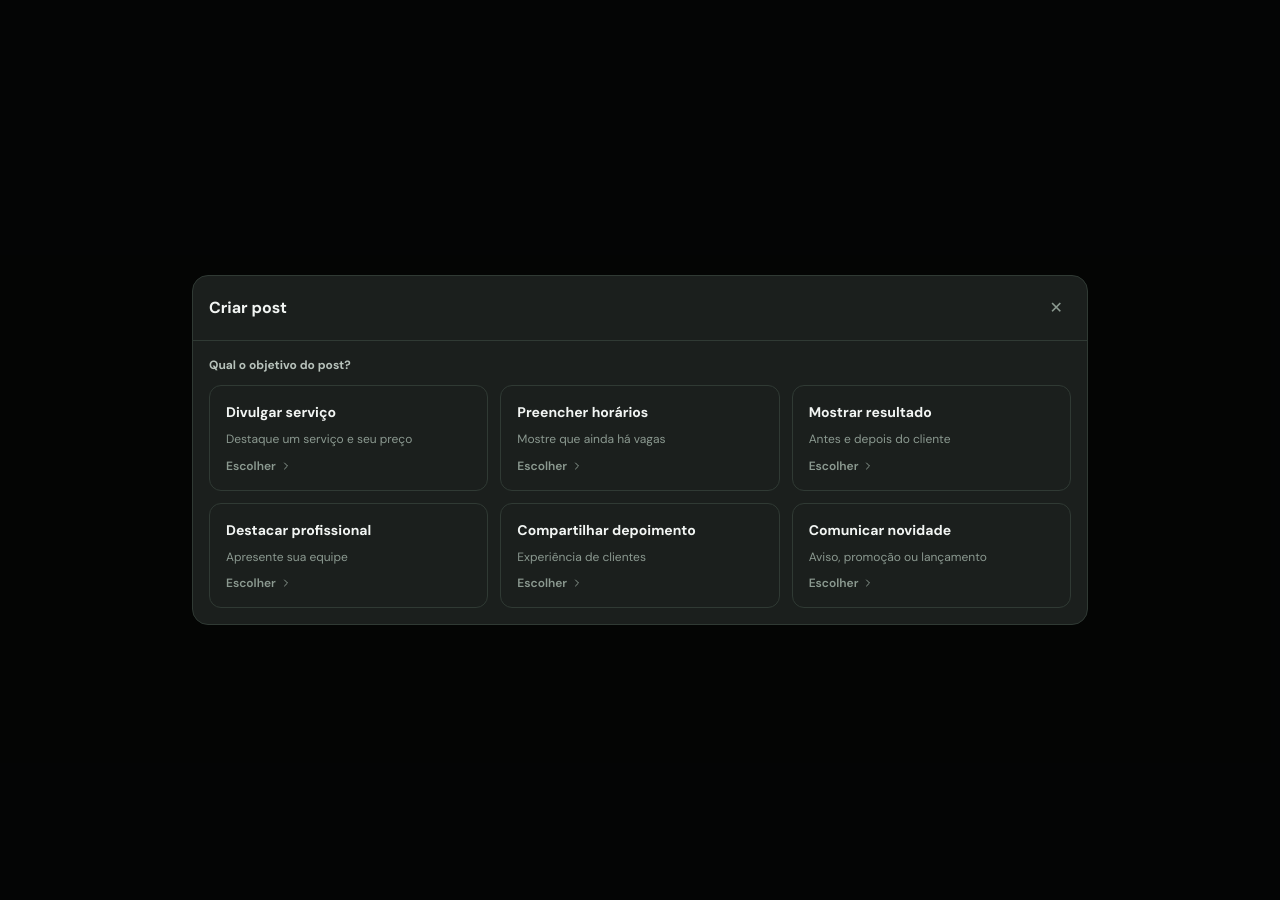
Test case: PostEditor — photoMode › optional com stockImageKey avisa que imagem ilustrativa não representa o salão
Click the text "Divulgar serviço".
click(281, 412)  # box [226,402,336,422]
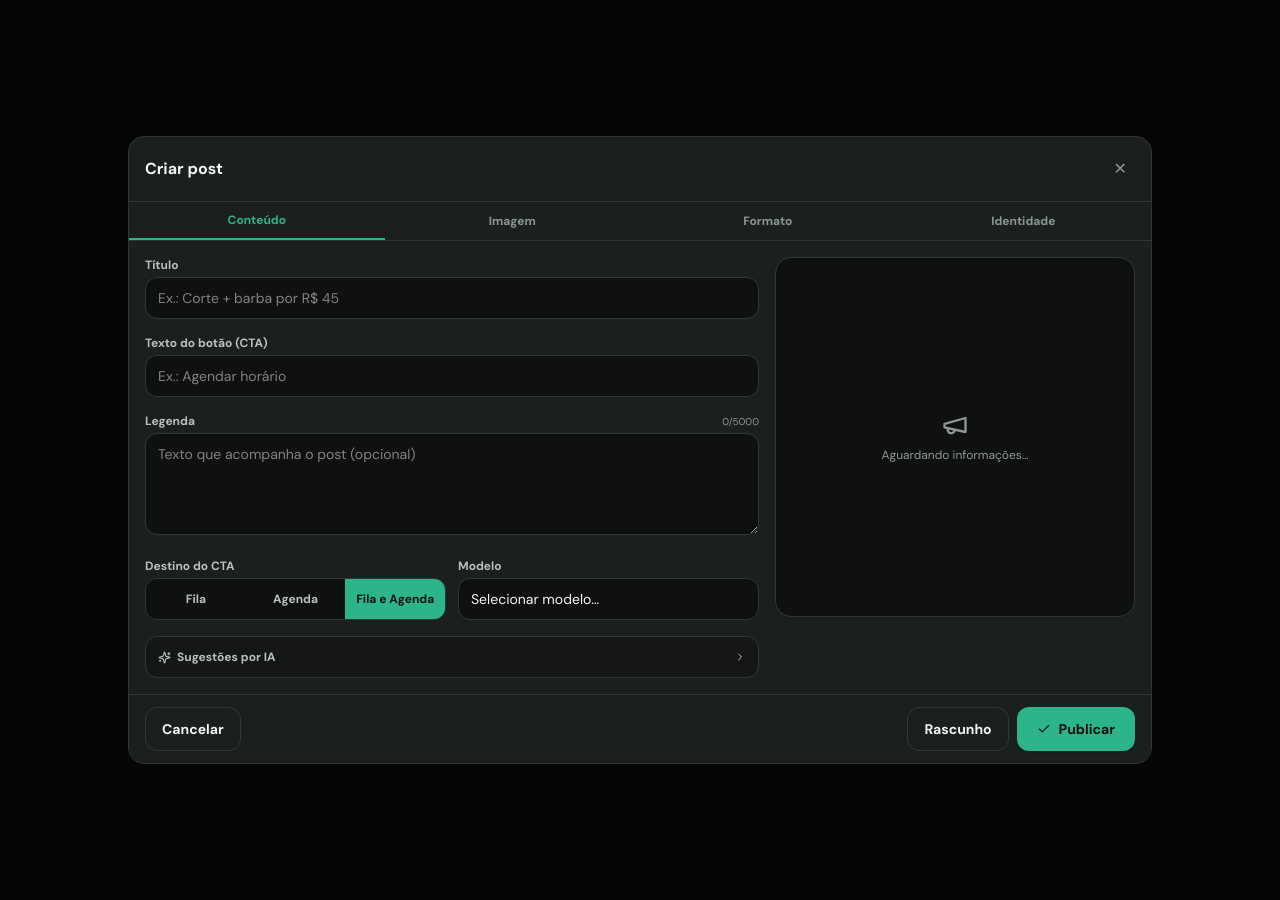
Click the button "Selecionar modelo…".
click(535, 599)  # box [458,578,759,620]
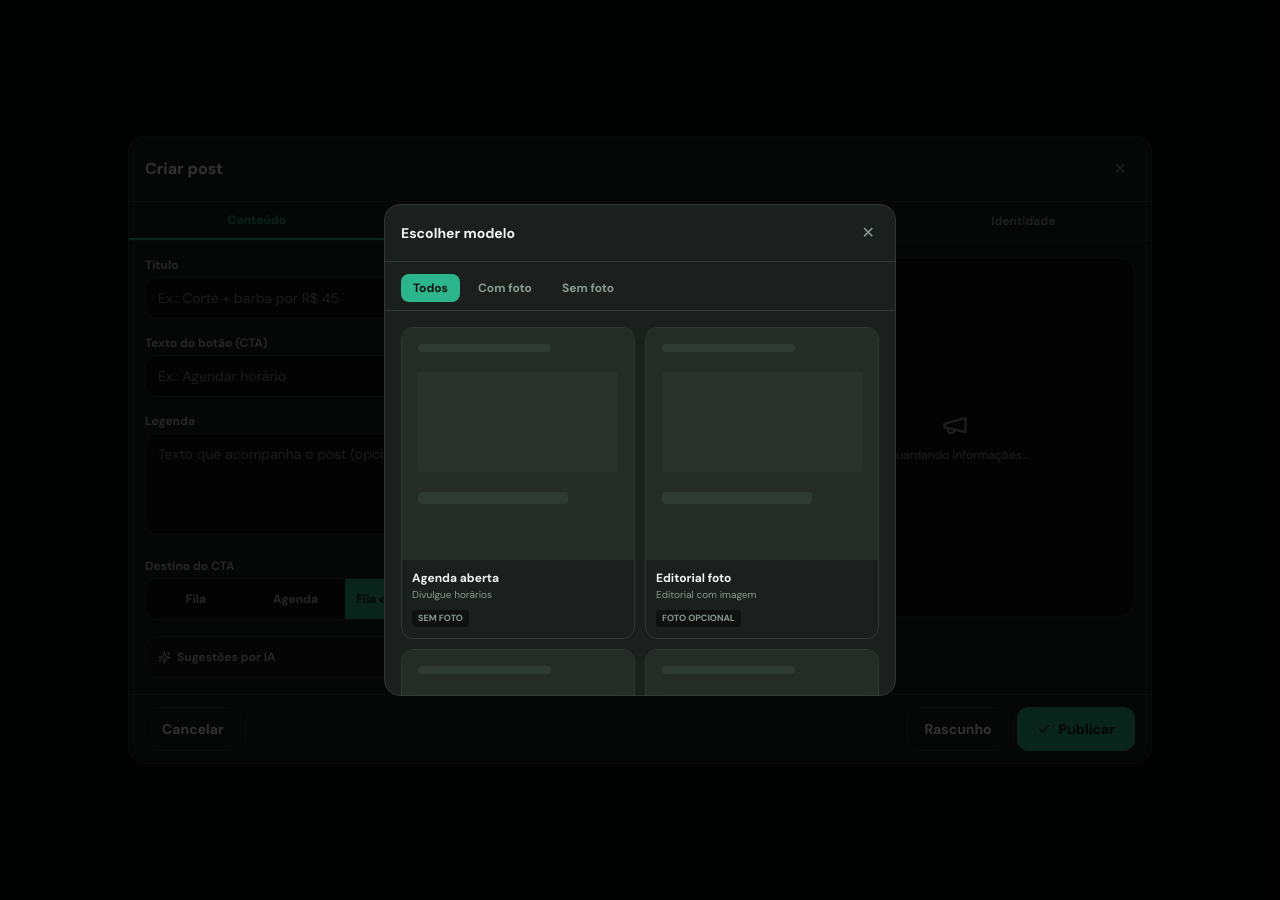
Click the text "Editorial foto".
click(694, 578)  # box [656,570,731,586]
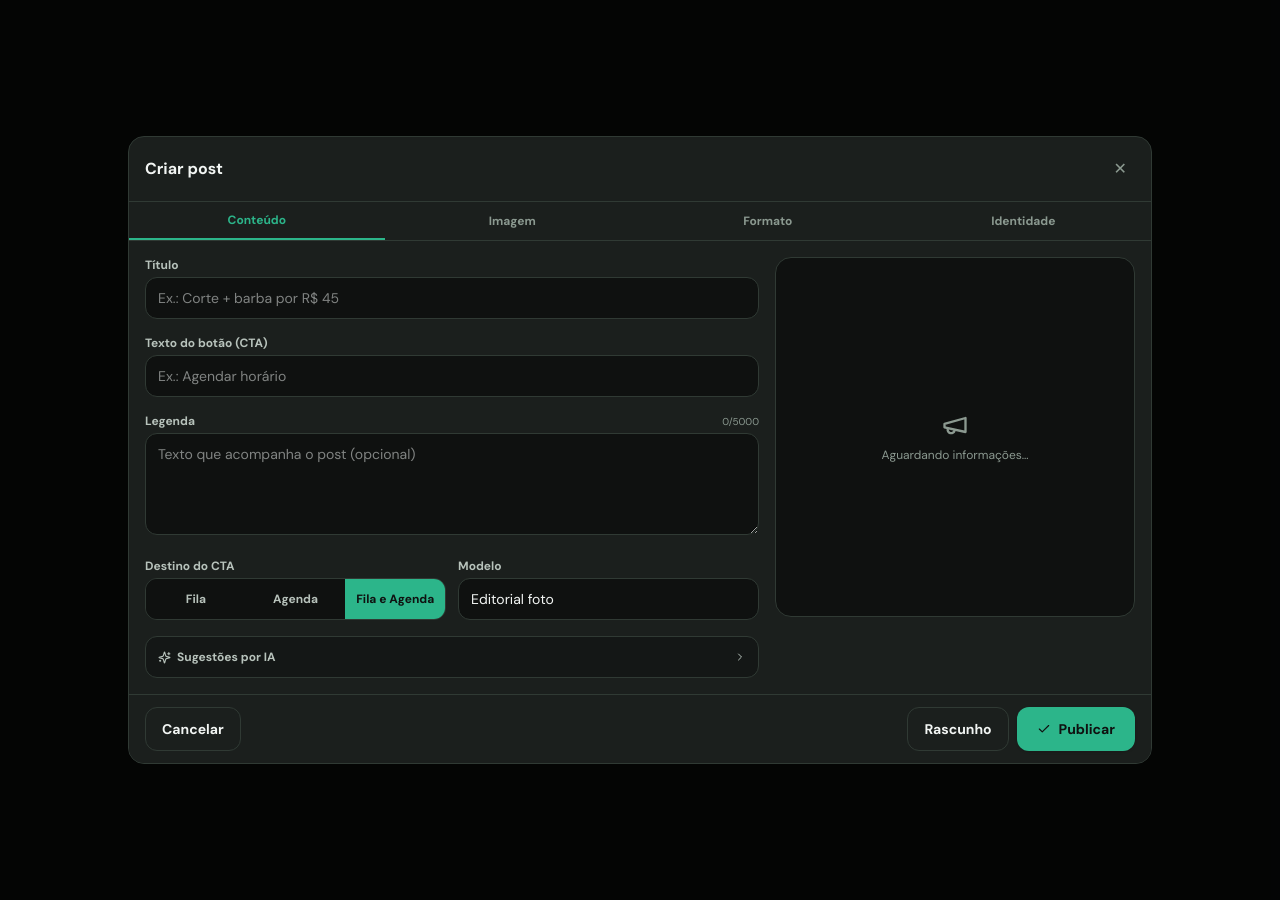
Click the button "Imagem".
click(512, 221)  # box [384,202,640,240]
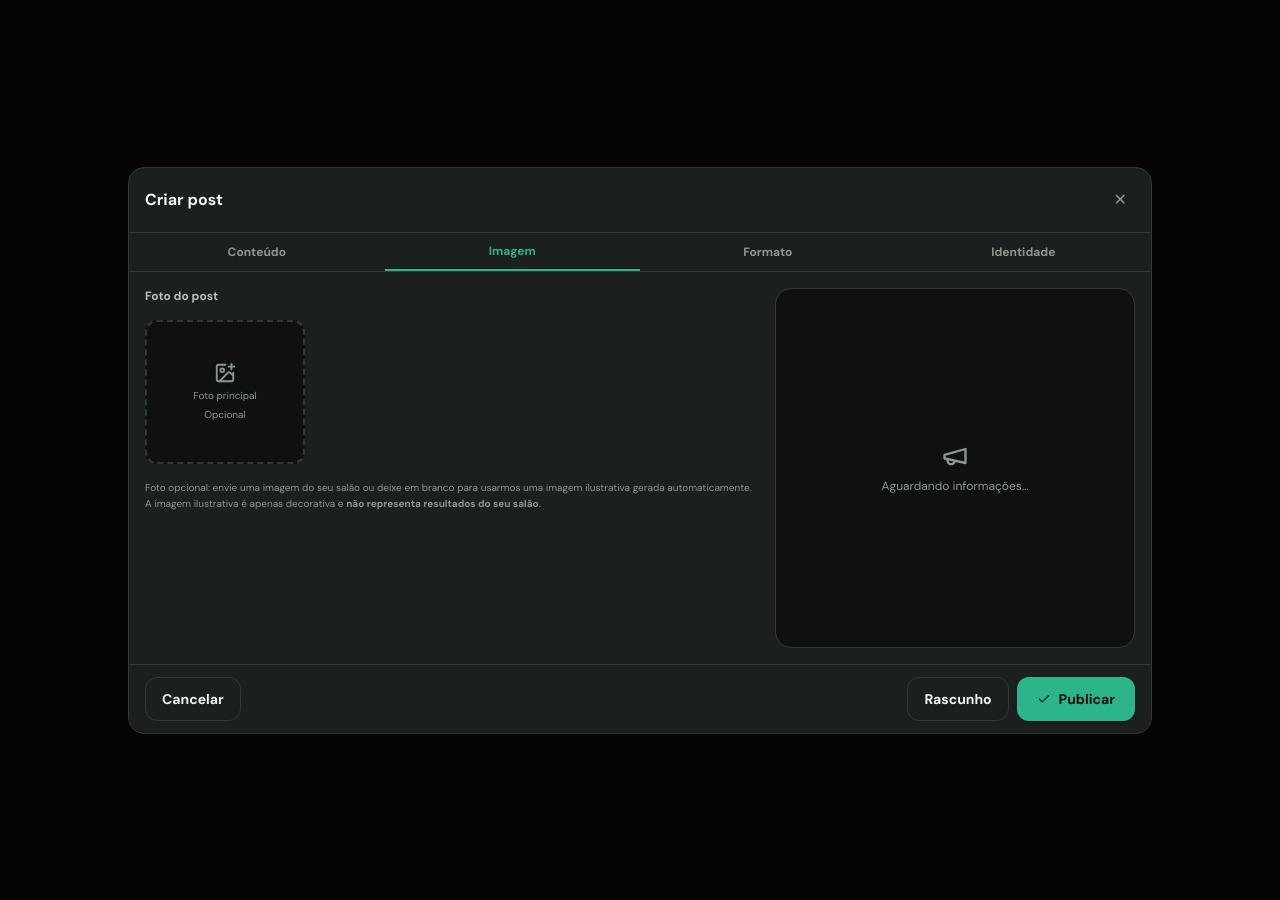
Expected: the text "não representa resultados do seu salão" is shown, [346,497,539,510]
